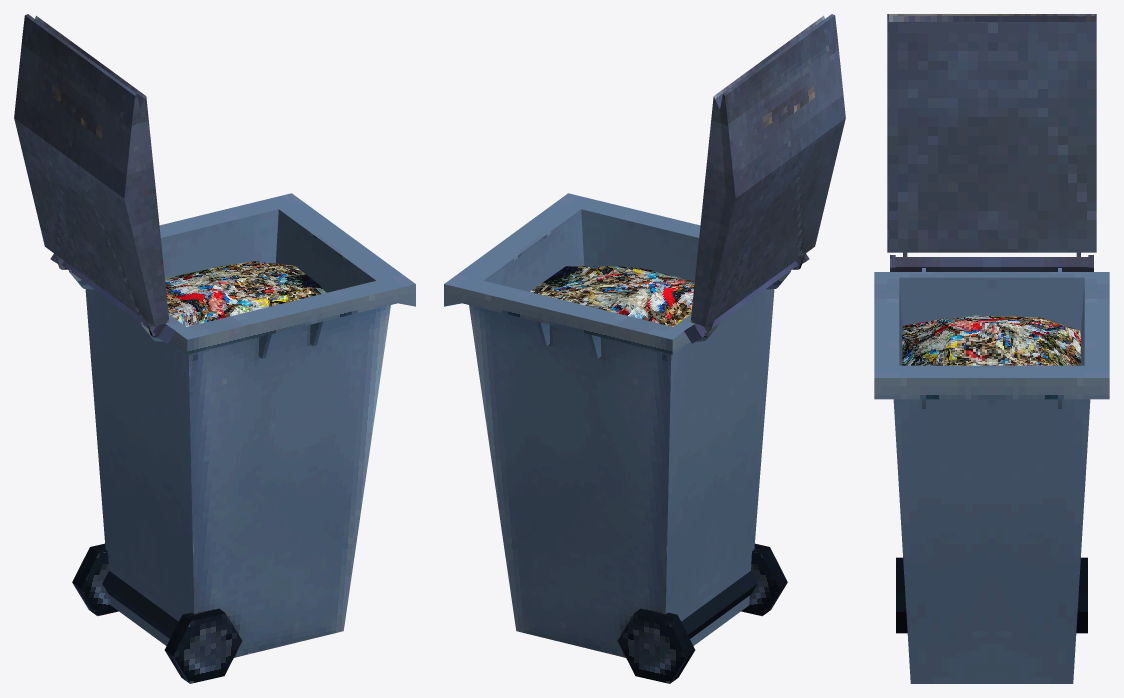
The model's file is trash_can_alt1_full.glb.
3 renders of one model, left to right at view 1: azimuth 30°, elevation 25°; view 2: azimuth 150°, elevation 25°; view 3: azimuth 270°, elevation 25°, orthographic. The views are drawn at different scales.
Visible parts, largest first — view 1: trash_can_alt1_full; view 2: trash_can_alt1_full; view 3: trash_can_alt1_full.
Boxes of the visible parts, x1,y1,x2,y2 form: trash_can_alt1_full: (14, 14, 415, 683); trash_can_alt1_full: (444, 14, 845, 683); trash_can_alt1_full: (874, 14, 1109, 683).
Size of the model in its own units: 1.03 by 2.1 by 0.7794.
2 materials, 2 textured.
